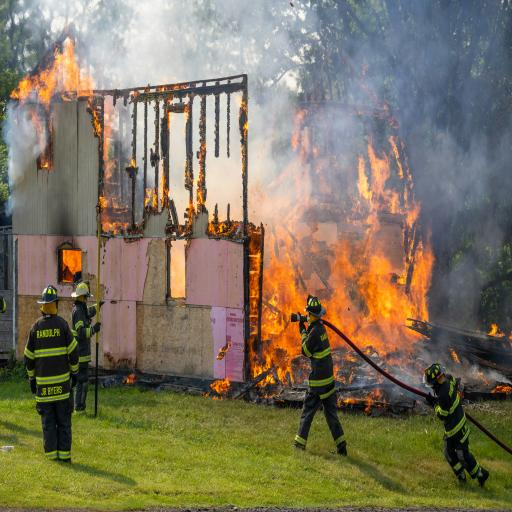buildingfire: (0, 2, 512, 427)
